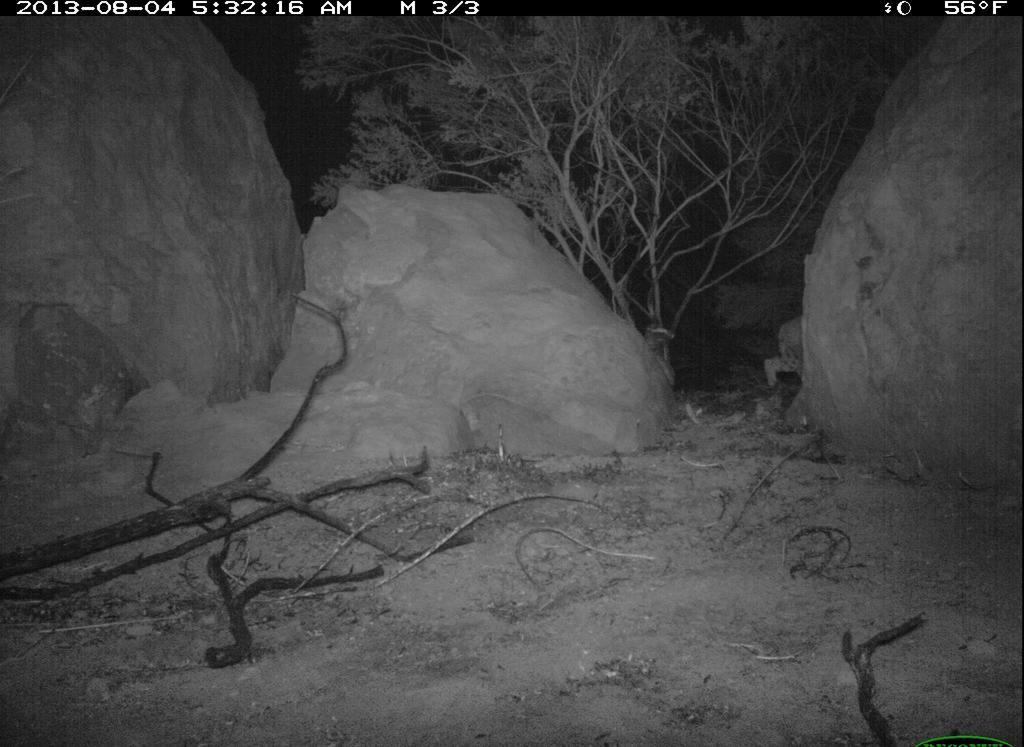bobcat: (758, 301, 814, 396)
